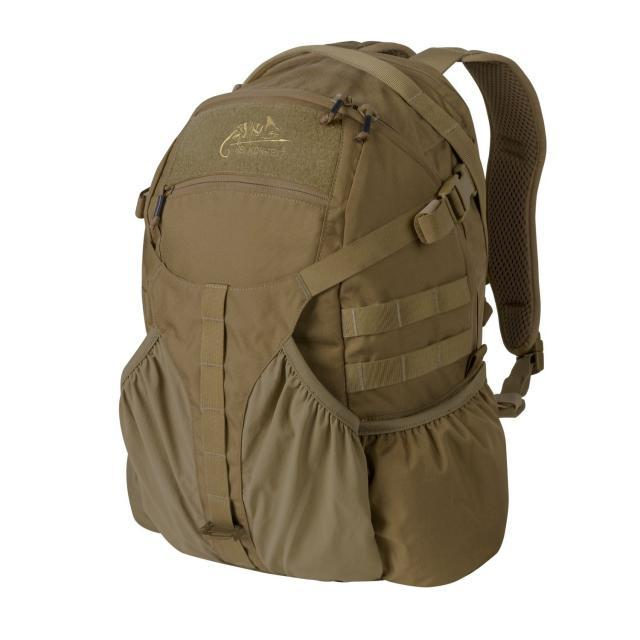Backpacks: (112, 36, 514, 592)
